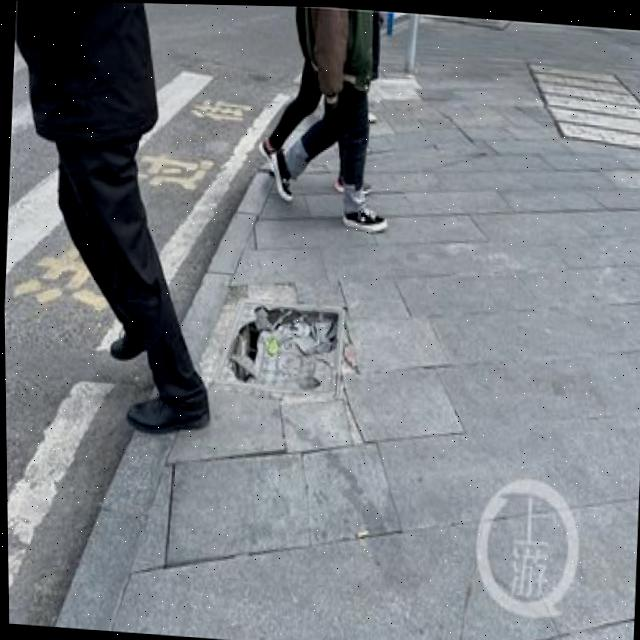manhole: (211, 286, 352, 398)
